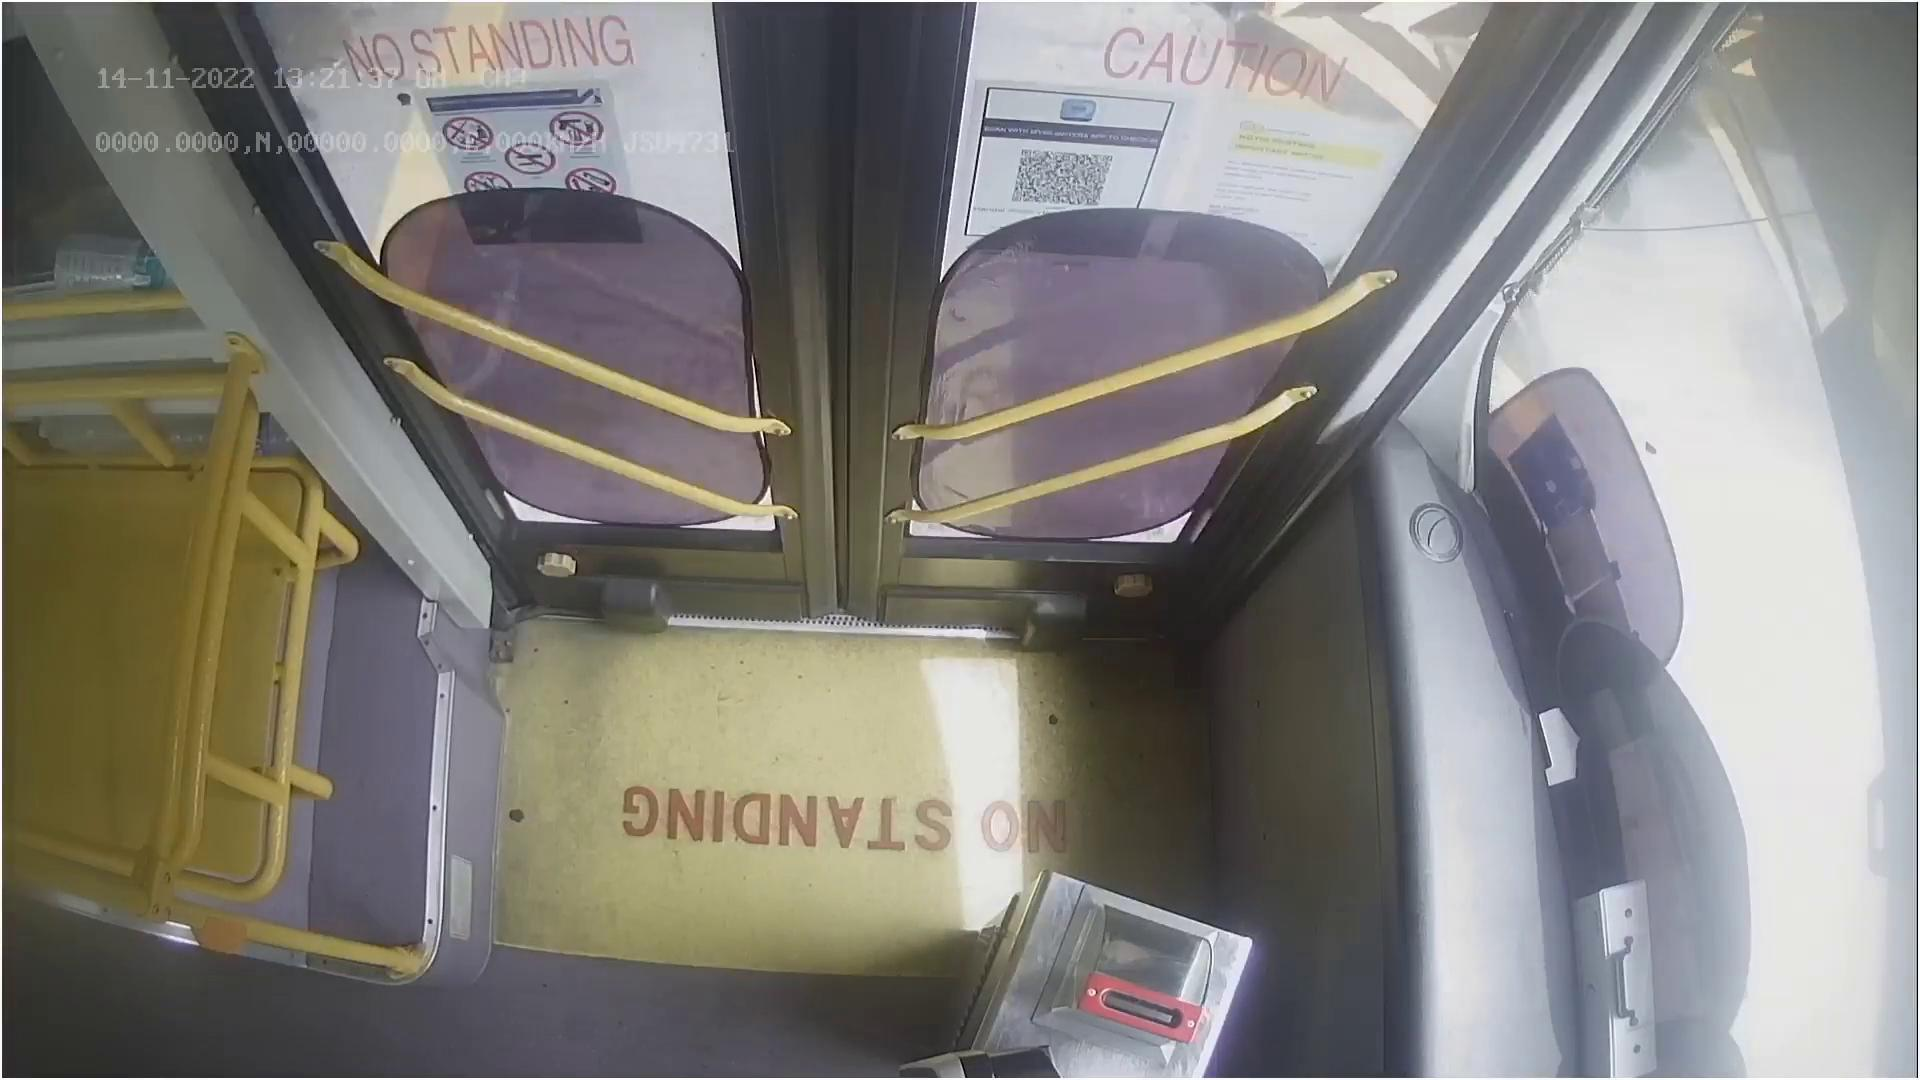close: (289, 0, 1453, 148)
